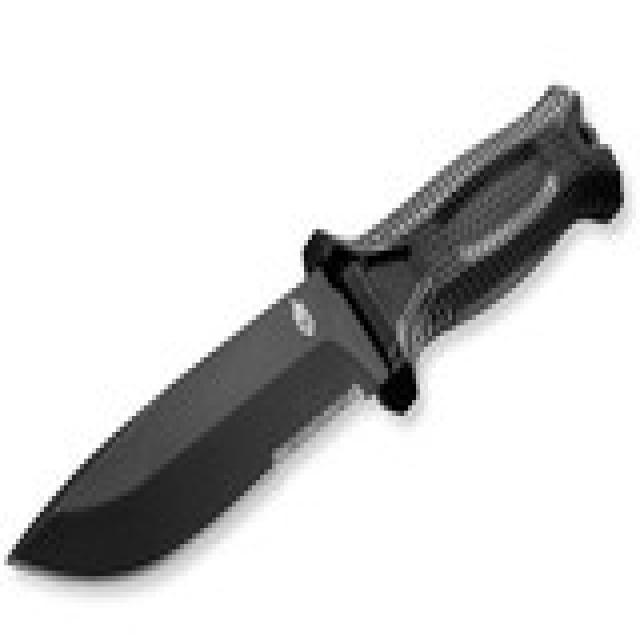Knife: (3, 78, 634, 588)
